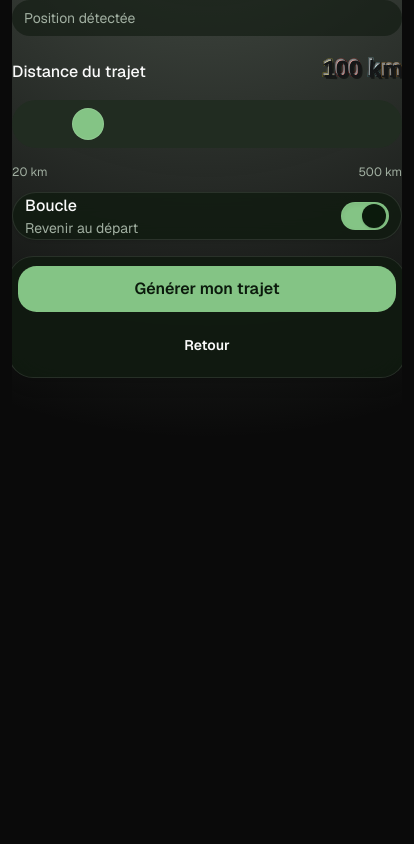
Scenario: DescribeRidePanel (FR-034) › locates automatically and sends an AI web-generation request (FR-011)
Expected: the text "Position détectée" is shown, [12, 0, 402, 36]
Set the slider named "Distance du trajet en kilomètres" to "180": {"x": 145, "y": 124} [12, 100, 402, 148]
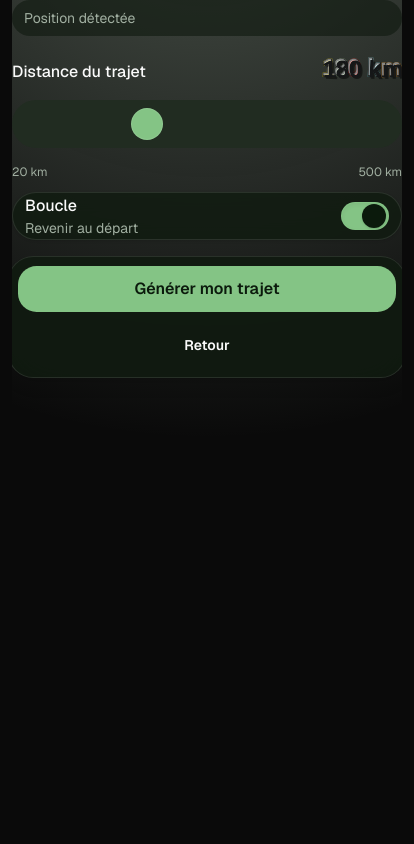
Click the button "Générer mon trajet": {"x": 207, "y": 289} [17, 265, 397, 313]
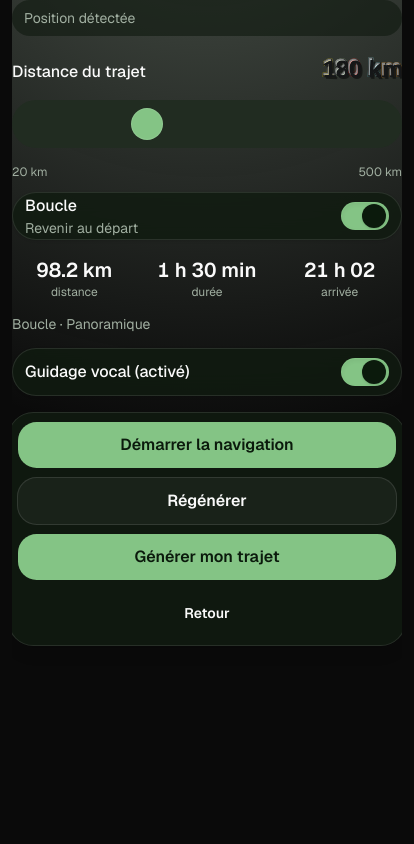
Now the button "Démarrer la navigation" is enabled, box [17, 421, 397, 469]
Now the button "Régénérer" is enabled, box [17, 477, 397, 525]
Now the text "98.2 km" is shown, box [36, 257, 112, 283]
